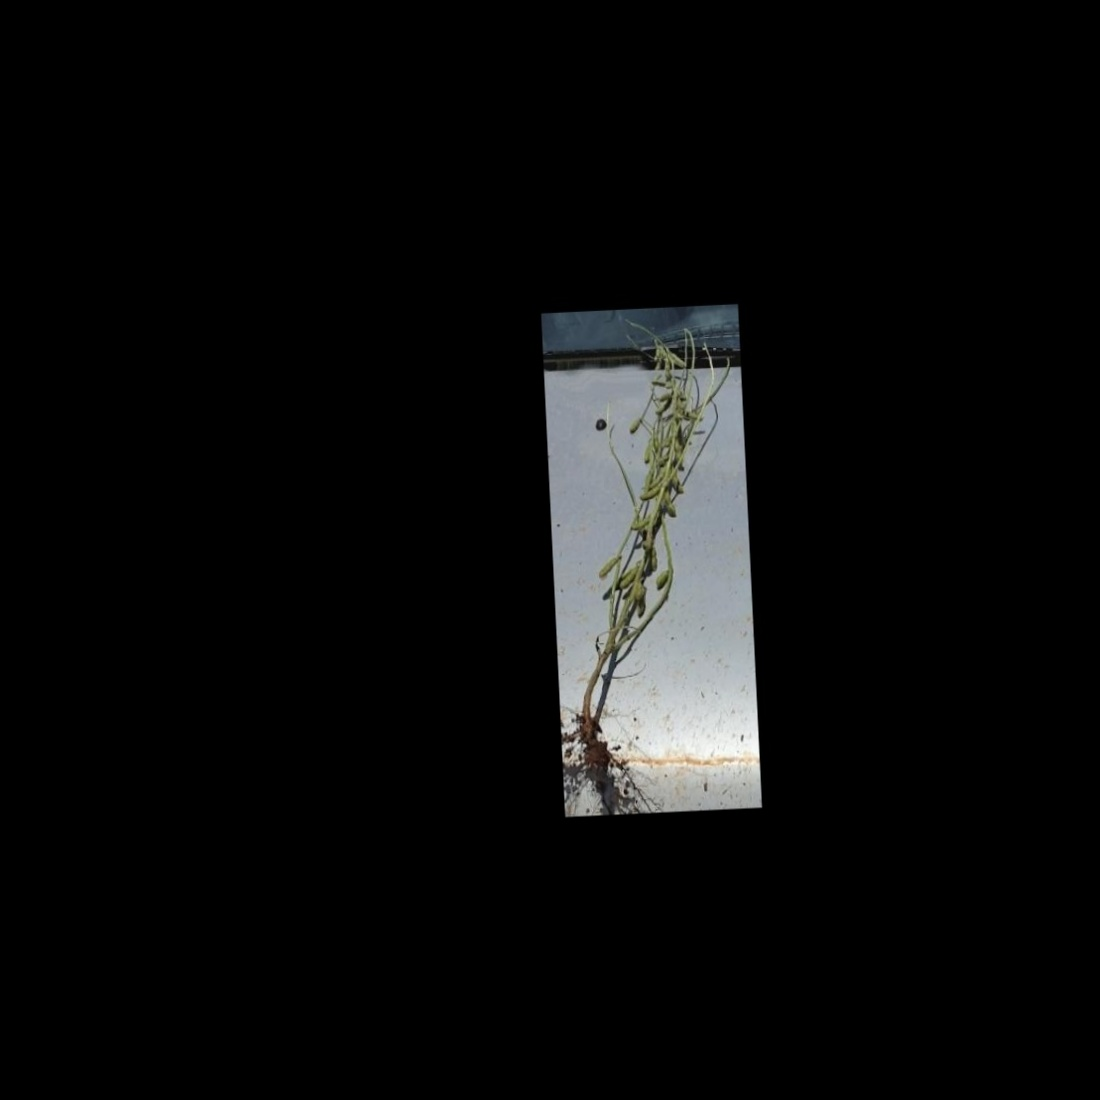pod: (596, 552, 622, 579), (627, 512, 654, 531), (616, 568, 639, 591), (653, 566, 673, 591), (664, 489, 675, 518), (626, 416, 643, 434)
soy: (547, 312, 757, 775)
